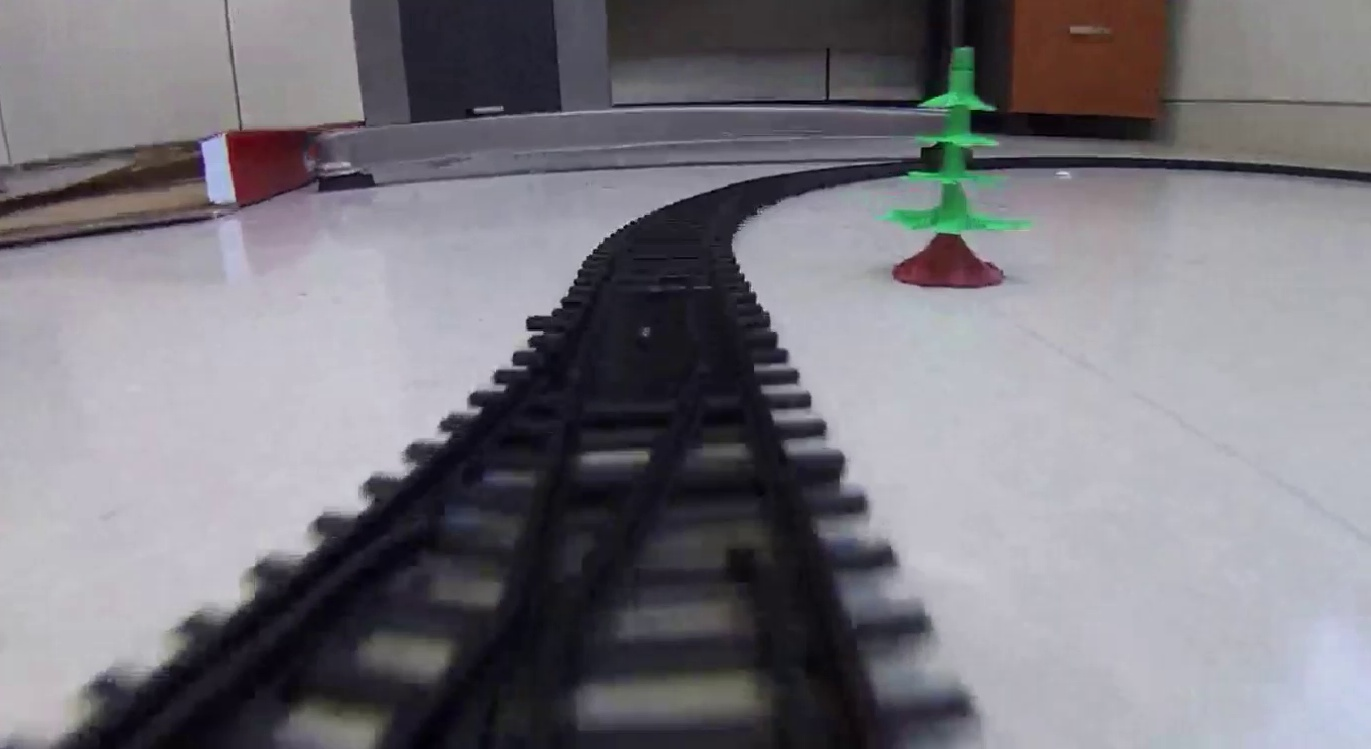tree: (875, 47, 1031, 287)
